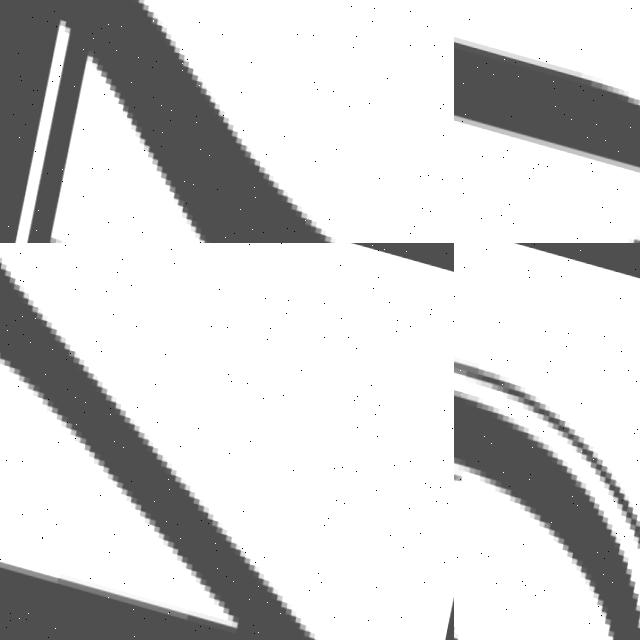6: (454, 243, 640, 640)
7: (0, 0, 454, 243)
J: (454, 0, 640, 243)
V: (0, 243, 454, 640)
